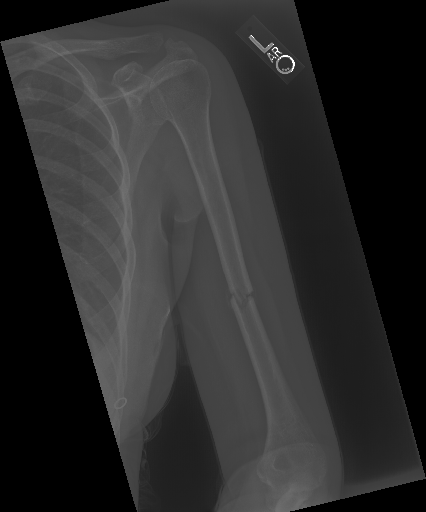fracture: (216, 259, 266, 340)
